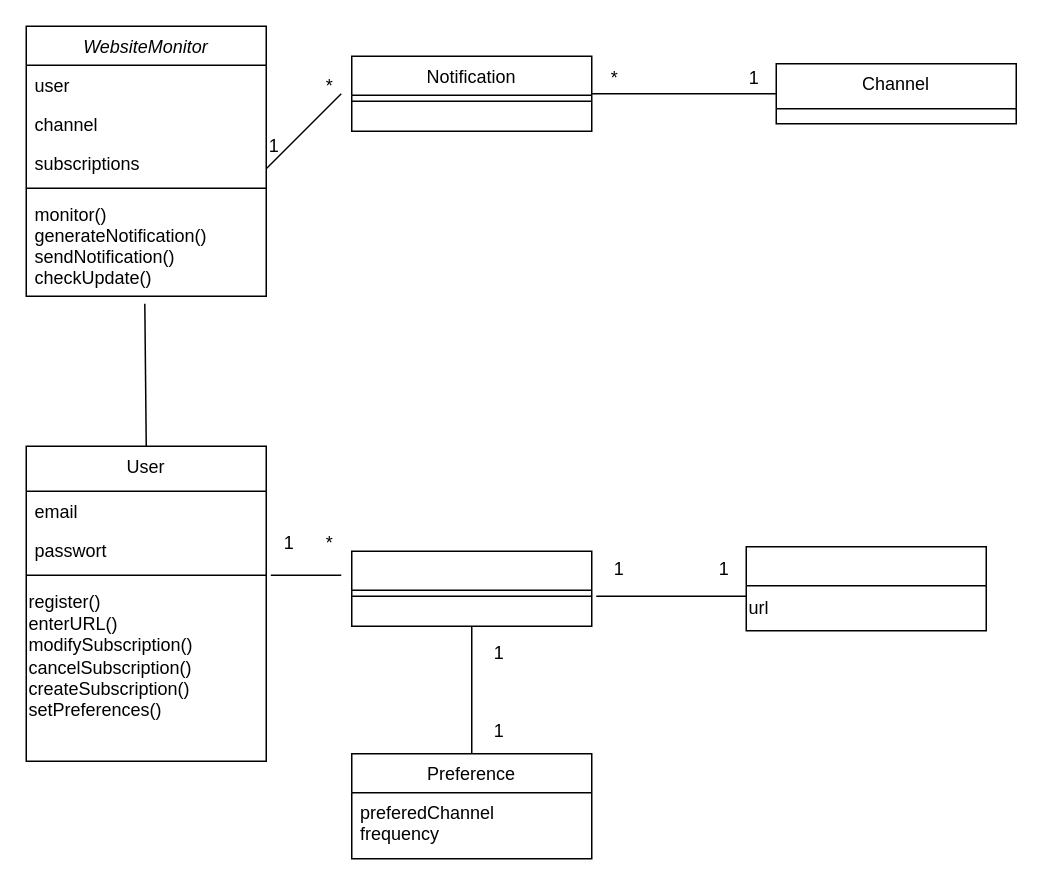
Some shapes in this 1043 by 885 pixel diagram are drawn without their labels. Here are the shapes that lost their labels. From the top down, the box of each, then its label:
(350, 550, 592, 626): Subscription
(745, 545, 986, 631): Website
